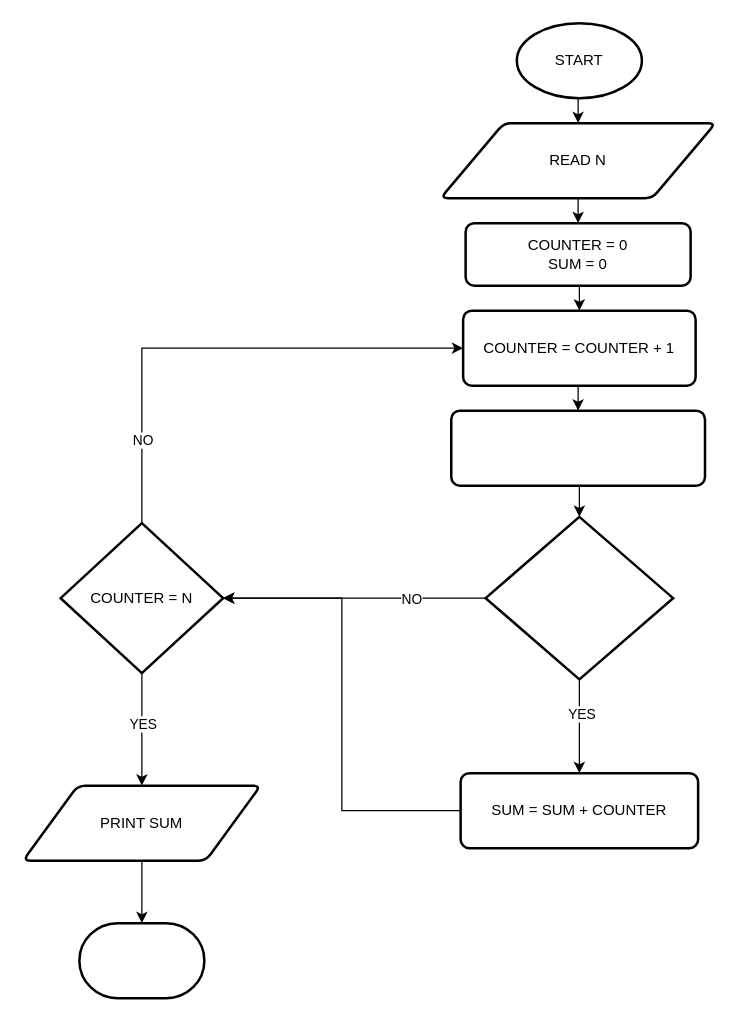
This 738x1020 diagram has some shape labels left out. Here are the shapes that lost their labels. From the top down, the centre of each, then its label:
At point (577, 447): "RES = COUNTER % 2".
At point (579, 597): "RES = 1".
At point (141, 960): "END".
